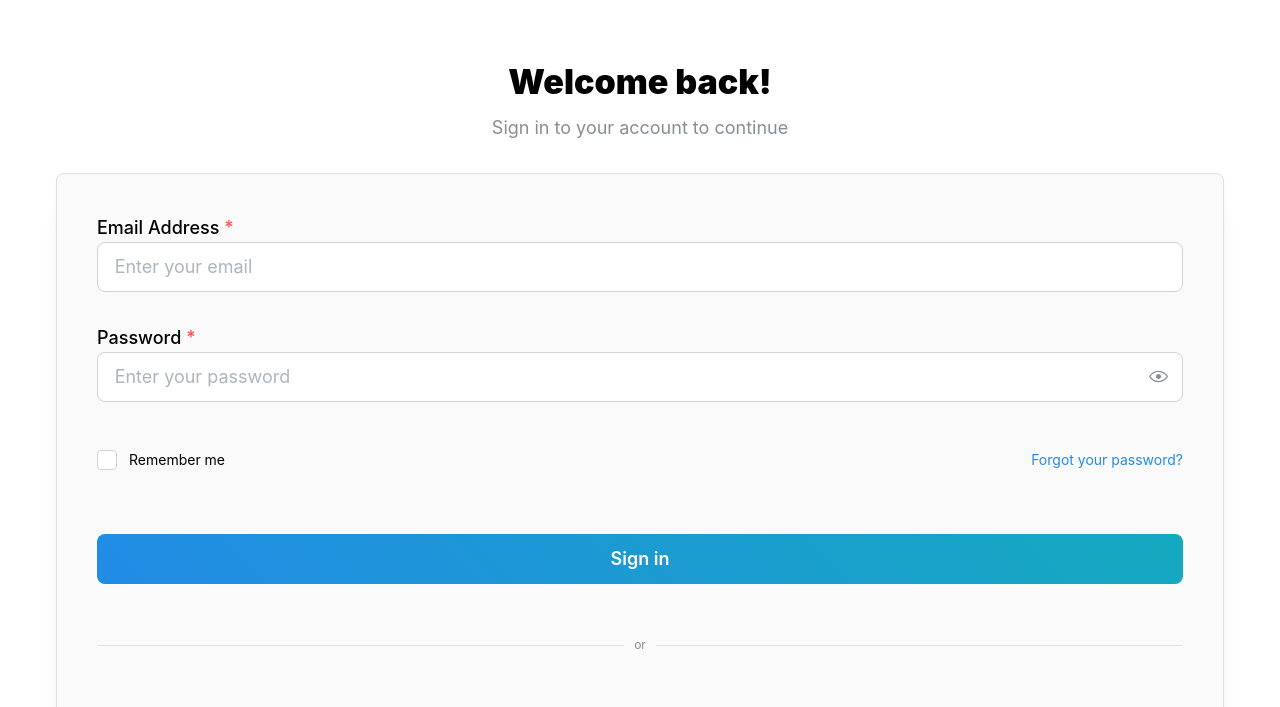
Test case: LoginForm Component Tests › handles form submission with valid data
The image size is (1280, 707).
Note: Fill form with valid data
Type "user@example.com" into the field with placeholder "Enter your email" at {"x": 640, "y": 267}, box top-left (97, 242), bottom-right (1183, 292)
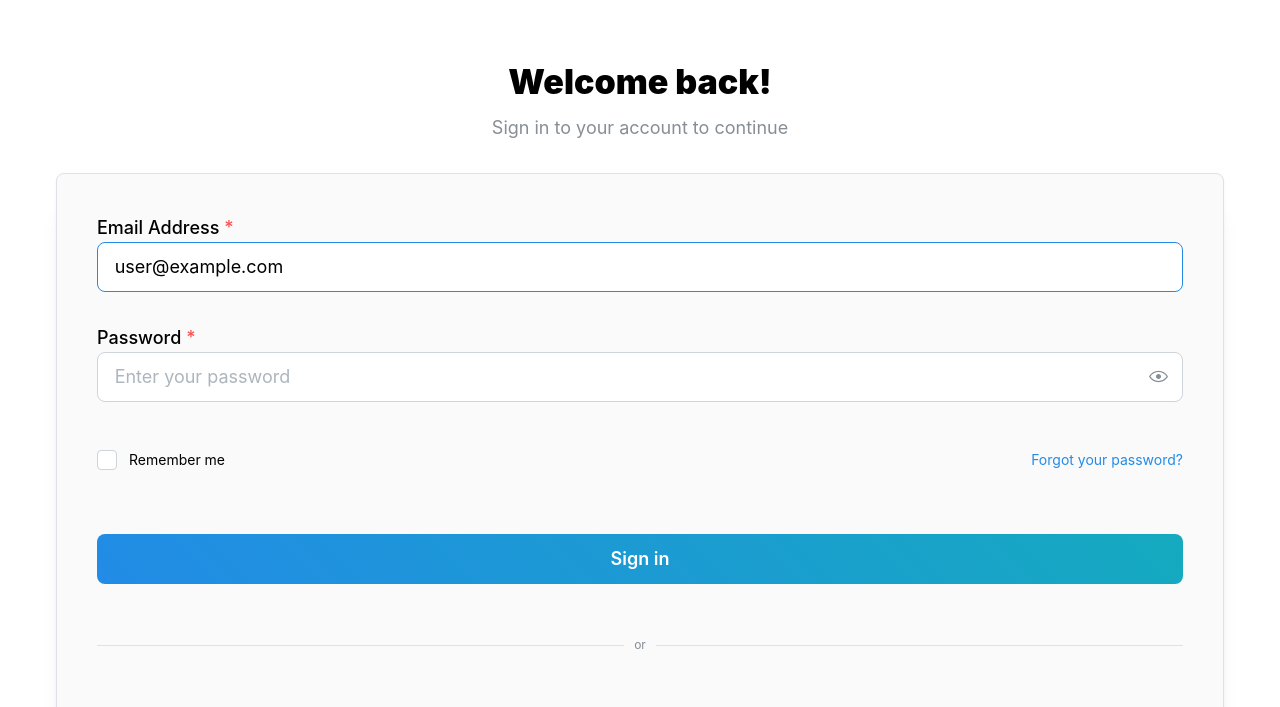
Type "password123" into the password field with placeholder "Enter your password" at {"x": 640, "y": 377}, box top-left (98, 353), bottom-right (1182, 401)
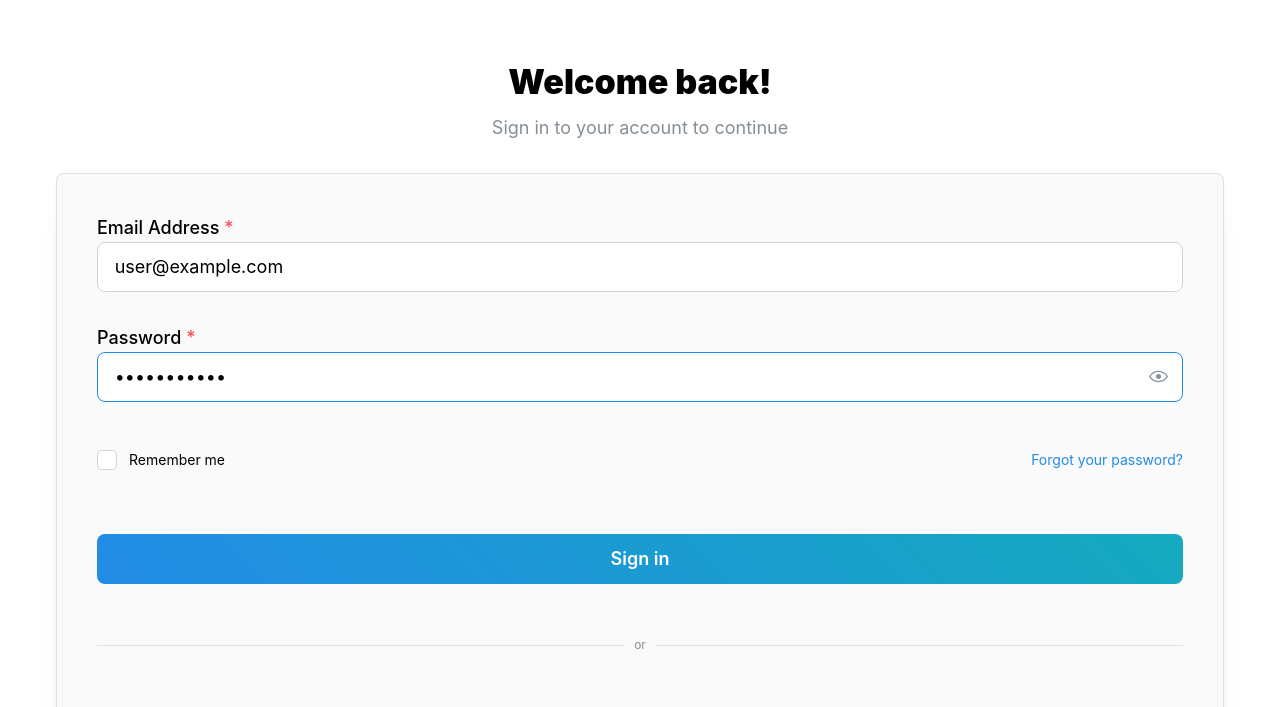
Note: Submit form
Click the submit button at {"x": 640, "y": 559}, box top-left (97, 534), bottom-right (1183, 584)
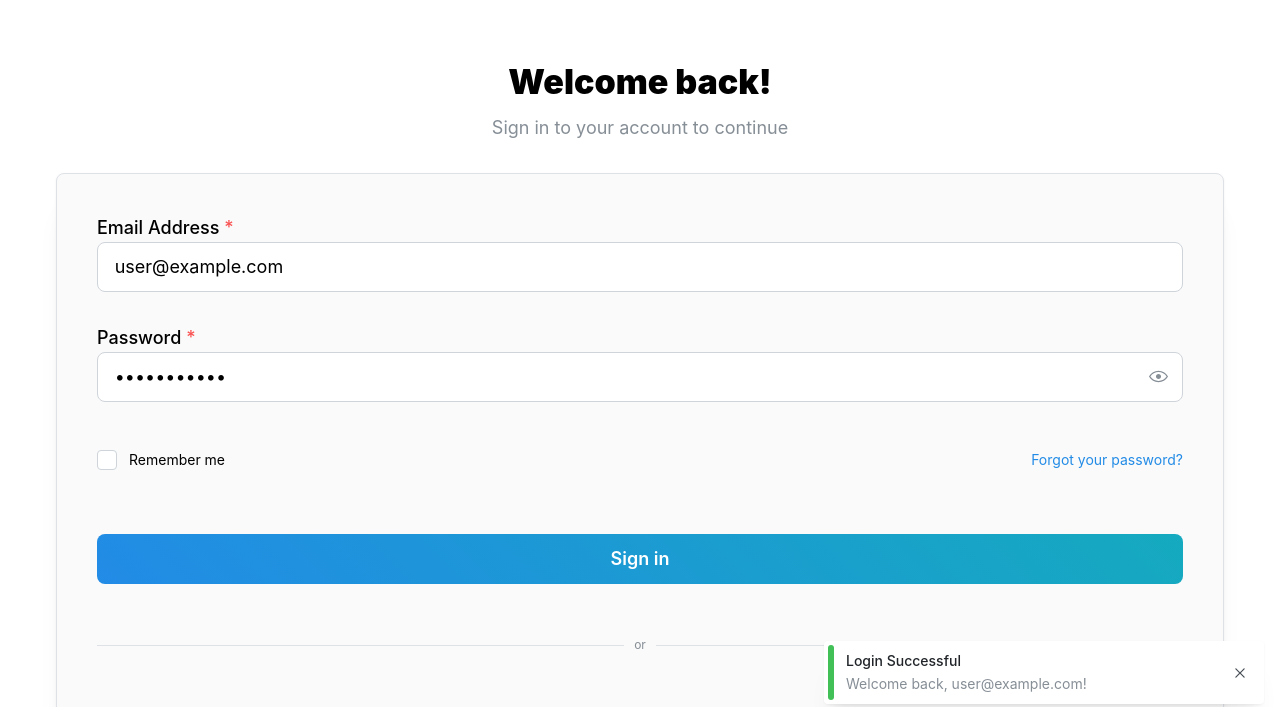
Check: the text "Login Successful" is shown, box top-left (846, 652), bottom-right (961, 669)
Check: the text "Welcome back, user@example.com!" is shown, box top-left (846, 675), bottom-right (1087, 692)
